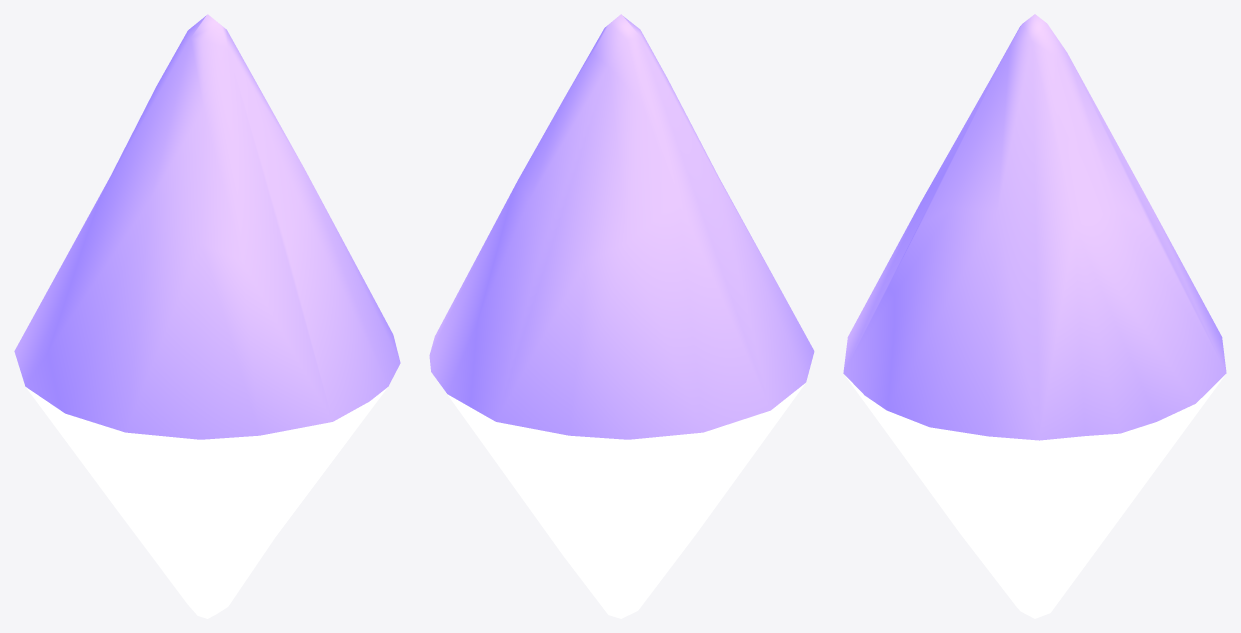
Rendered from ward_crystal.glb.
The picture shows the model from 3 angles, left to right: view 1: azimuth 30°, elevation 25°; view 2: azimuth 150°, elevation 25°; view 3: azimuth 270°, elevation 25°; orthographic projection.
Parts seen in each view (by area): view 1: ward_crystal; view 2: ward_crystal; view 3: ward_crystal.
Boxes of the visible parts, x1,y1,x2,y2 form: ward_crystal: (14,14,400,618); ward_crystal: (429,14,814,618); ward_crystal: (843,14,1226,618).
Bounding box in the file's own units: 0.4758 × 0.8281 × 0.4754.
